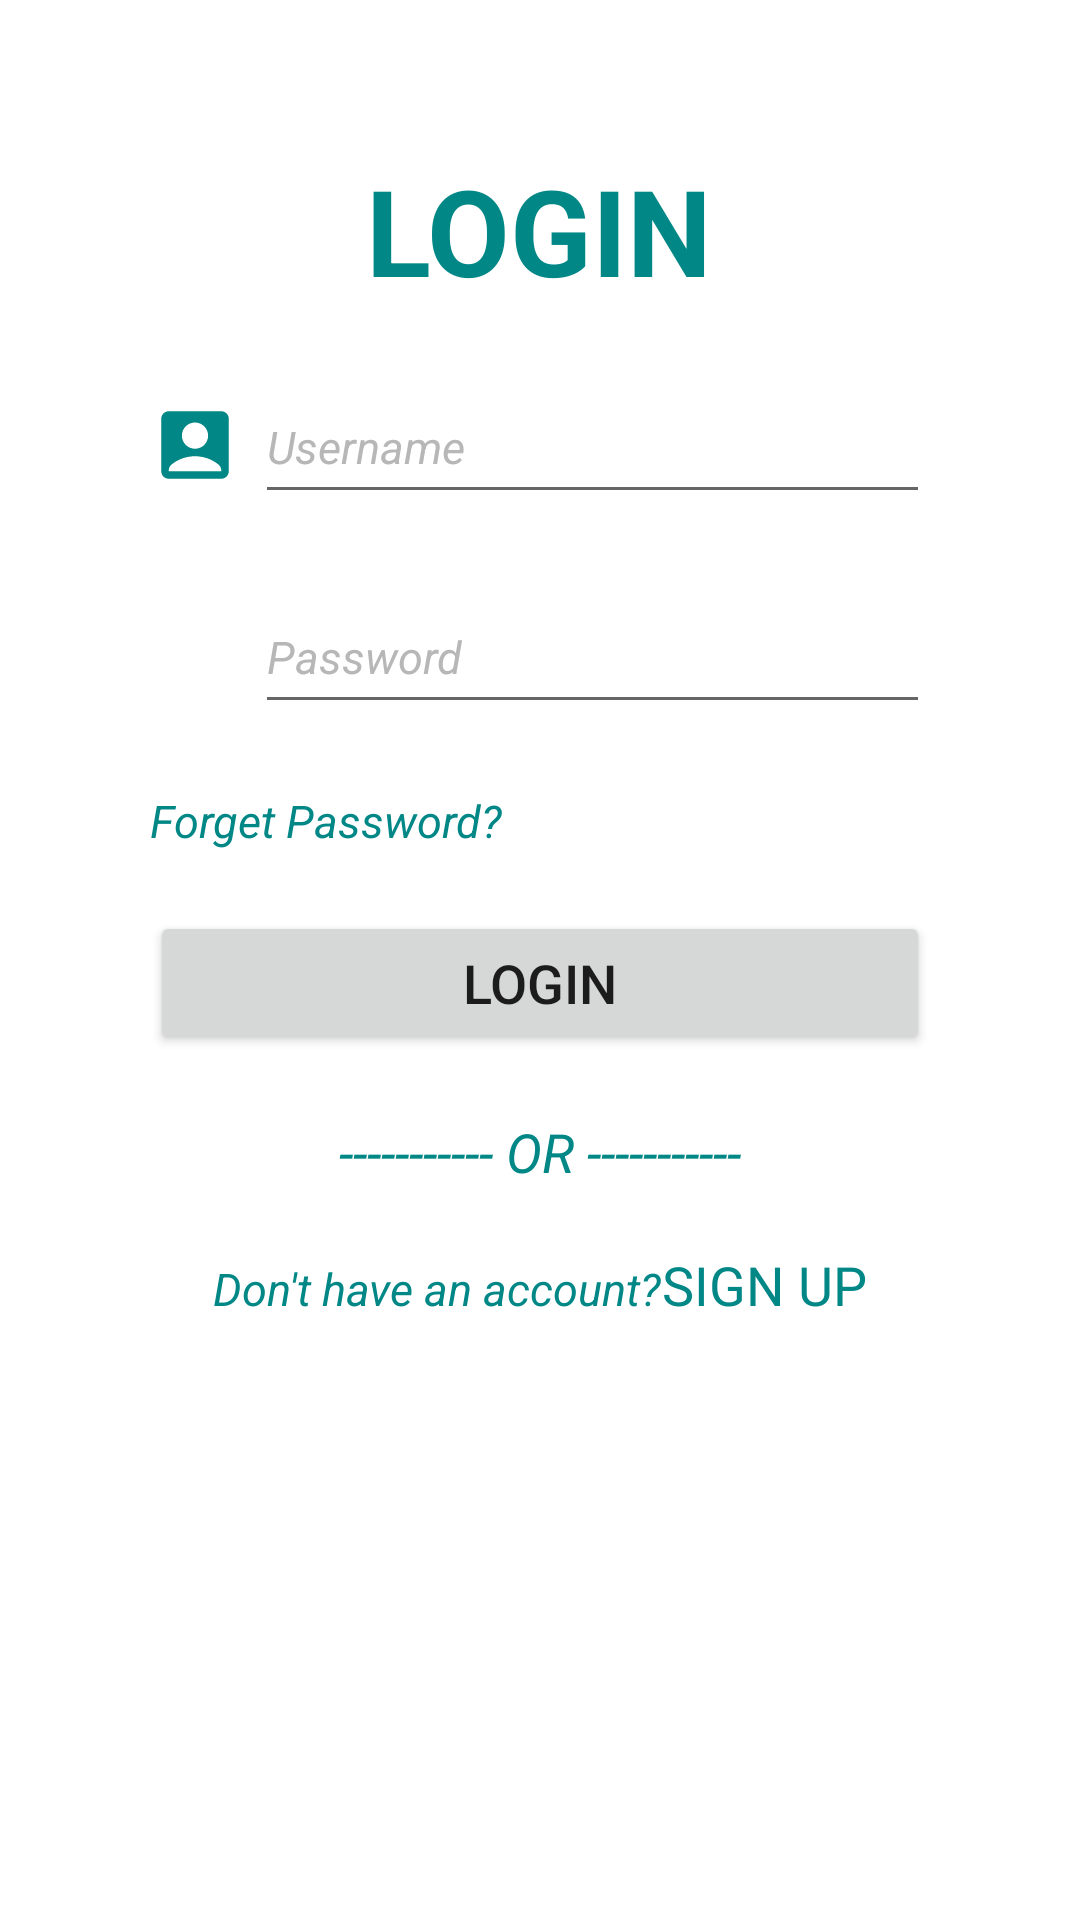

Screen size 1080x1920. Icon name, then its center in pixels as (x=x, y=y):
account box: (x=195, y=445)
